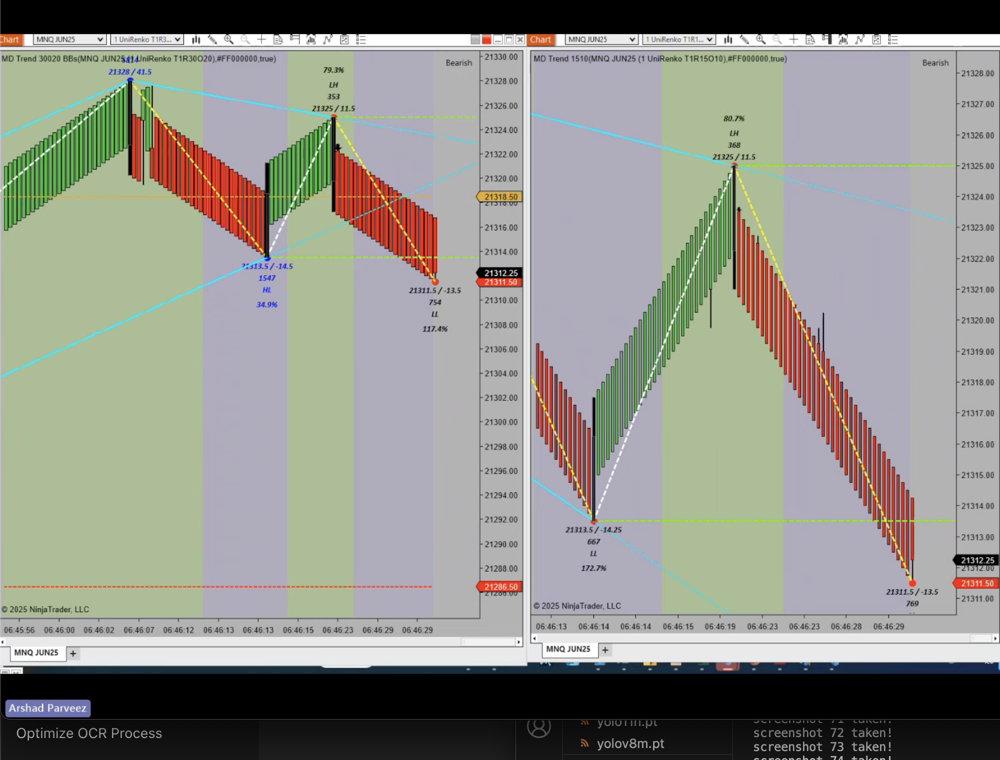HL: (259, 282, 275, 303)
LH: (722, 129, 749, 142), (324, 77, 346, 91)
LL: (426, 306, 447, 323), (583, 546, 604, 560)
